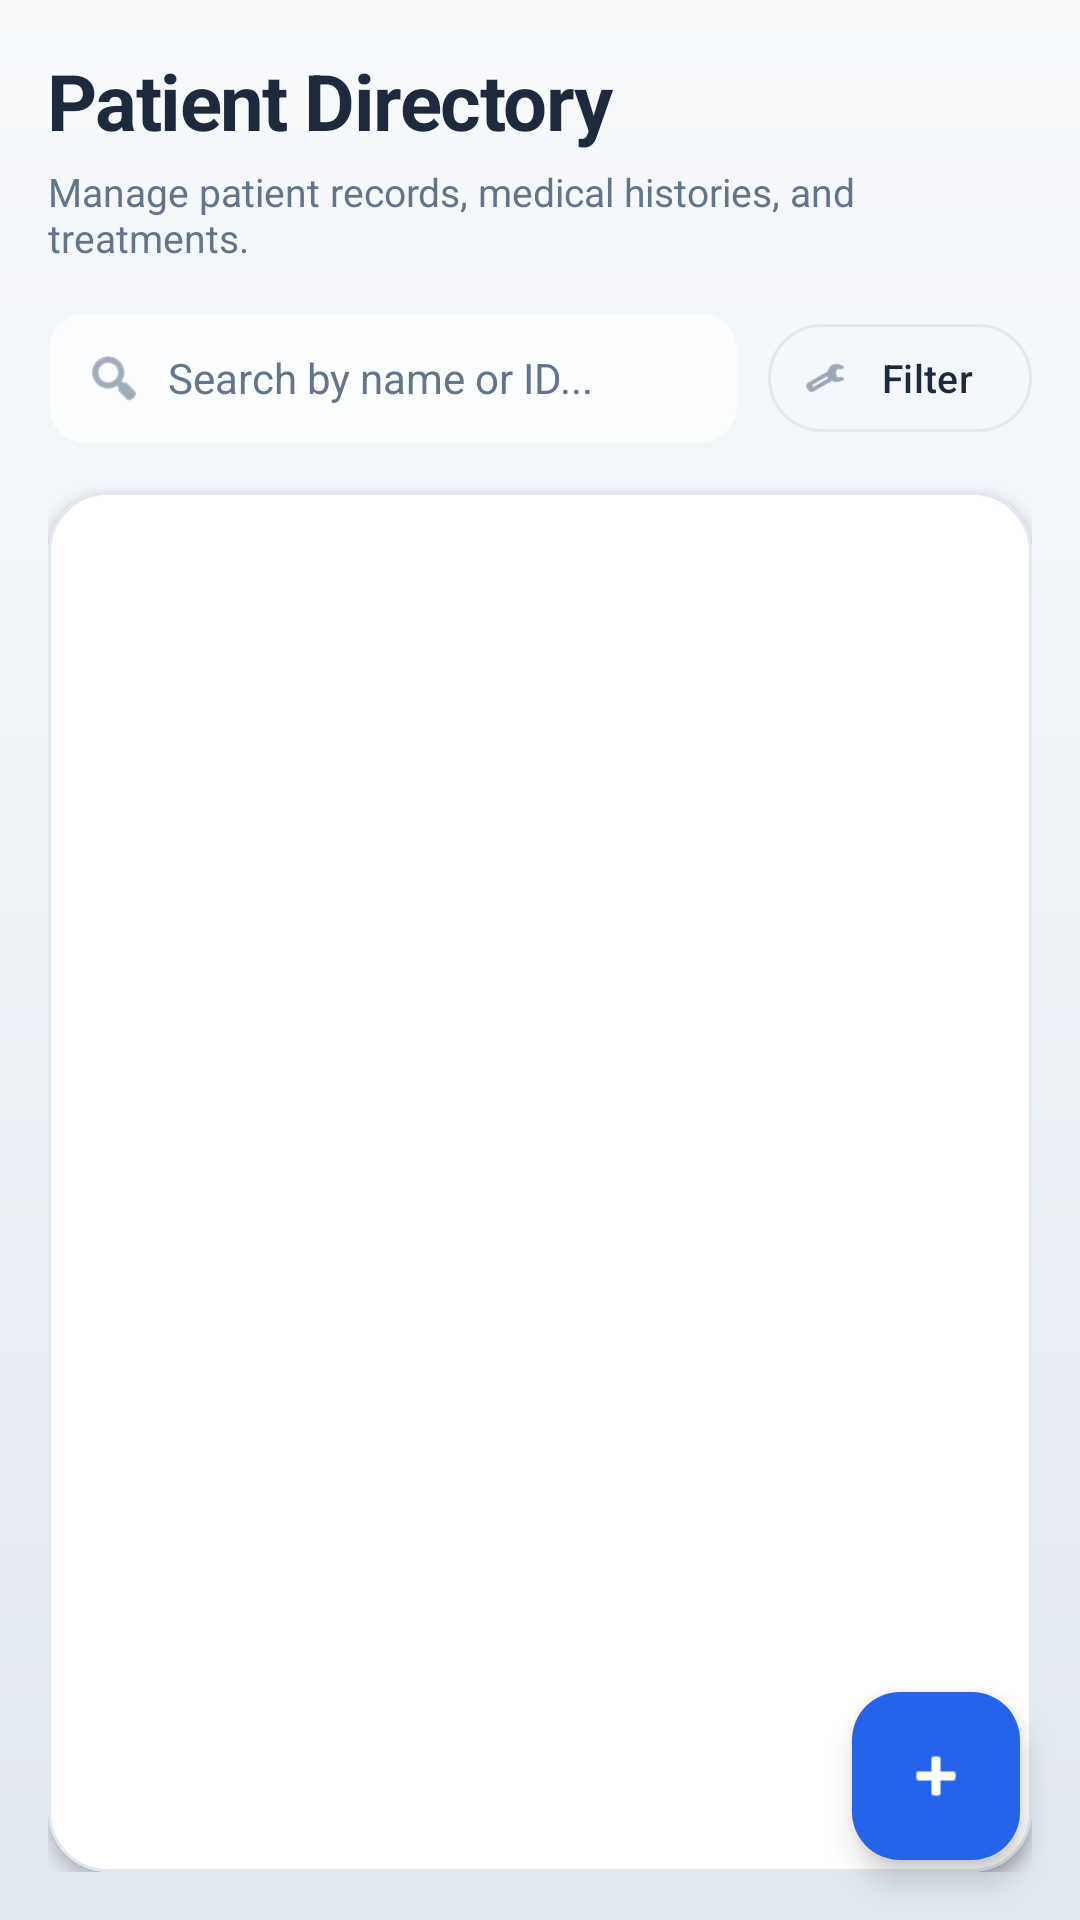

Icons on this 1080 × 1920 Android screen, each with the point to tap as [x,y]:
Add Patient: [936,1776]
